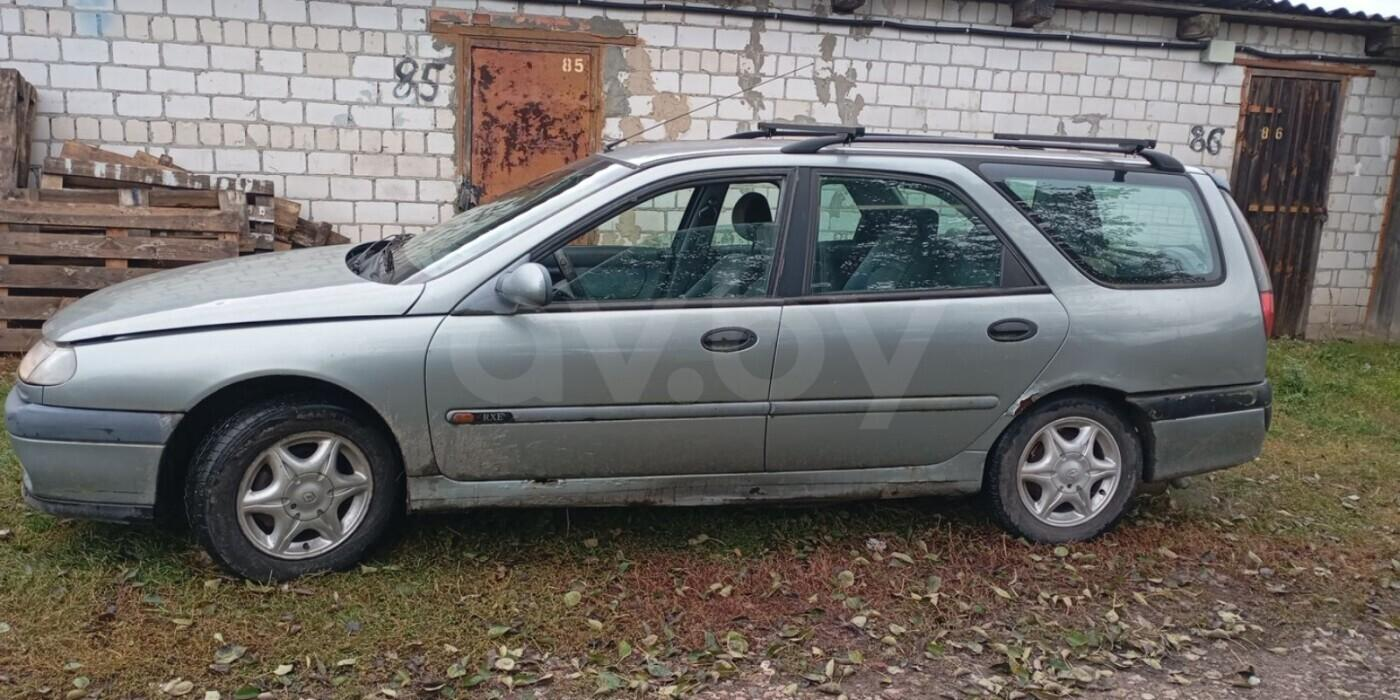Lahuna_1993-1999: (6, 124, 1280, 568)
